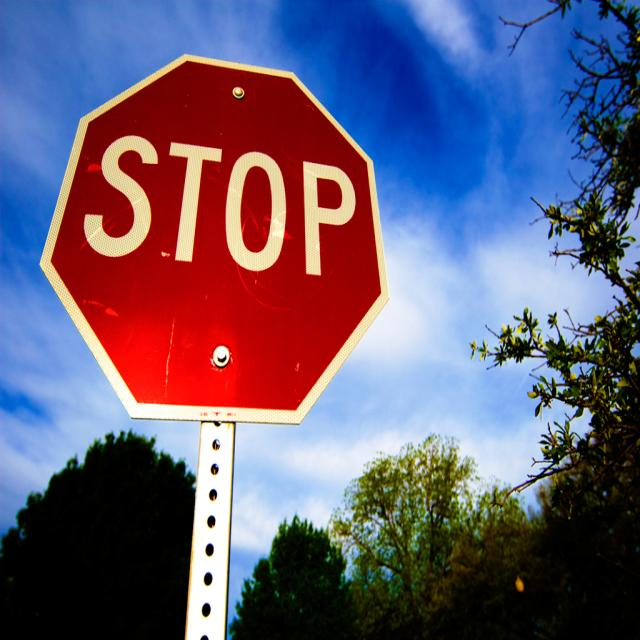Stop-sign: (38, 52, 389, 426)
